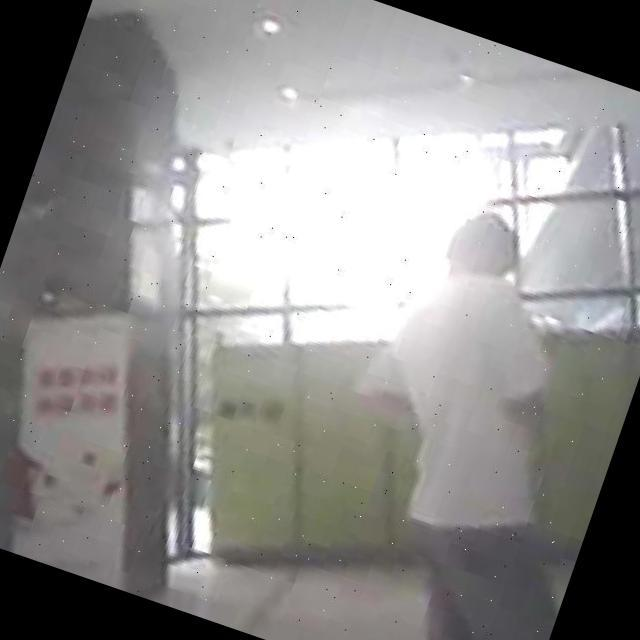person: (291, 195, 640, 640)
